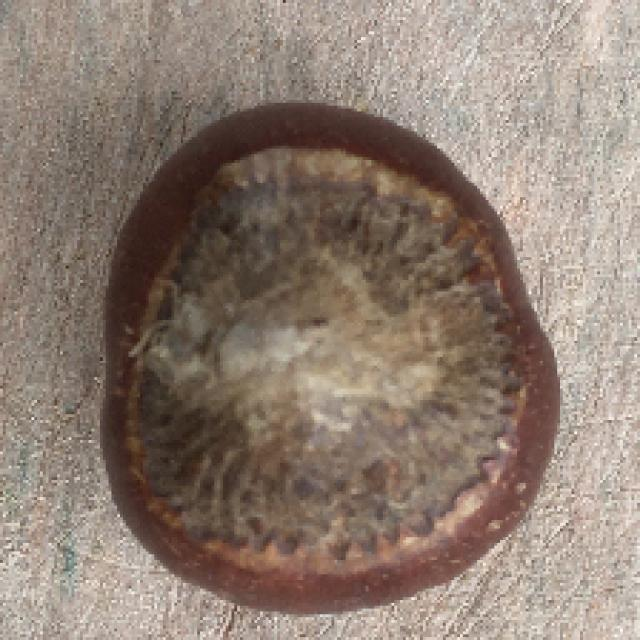damagedHazelnut: (88, 97, 558, 622)
